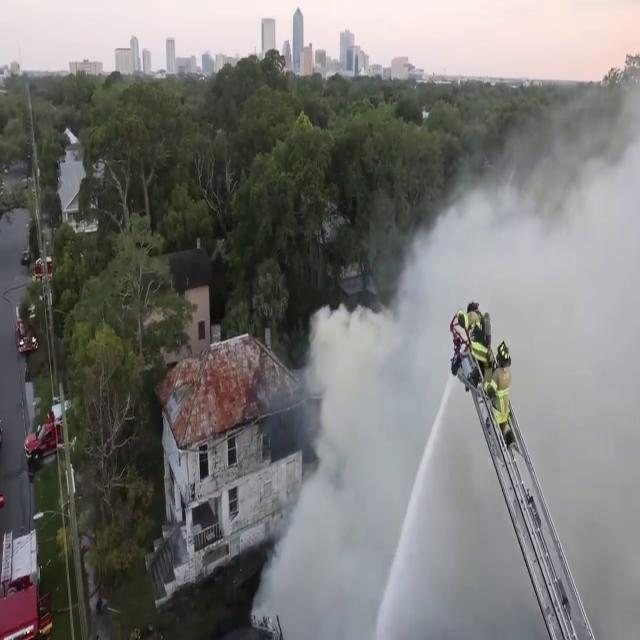Smoke: (238, 344, 446, 640)
